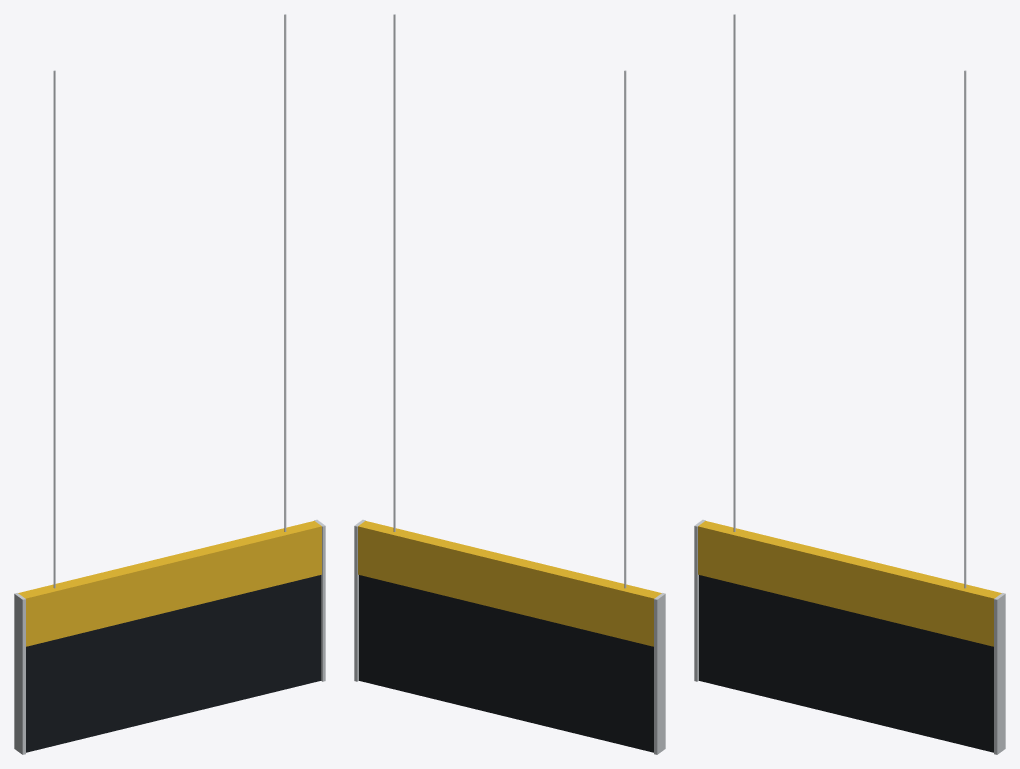
The model's file is aisle_sign.glb.
The picture shows the model from 3 angles, left to right: view 1: azimuth 30°, elevation 25°; view 2: azimuth 150°, elevation 25°; view 3: azimuth 330°, elevation 25°; orthographic projection.
Visible parts, largest first — view 1: sign_dark, sign_yellow, chrome; view 2: sign_dark, sign_yellow, chrome; view 3: sign_dark, sign_yellow, chrome.
Boxes of the visible parts, x1,y1,x2,y2 form: sign_dark: (26,575,320,752); sign_yellow: (18,521,321,646); chrome: (14,14,325,754); sign_dark: (359,575,653,752); sign_yellow: (358,521,661,646); chrome: (354,14,665,754); sign_dark: (699,575,993,752); sign_yellow: (698,521,1001,646); chrome: (694,14,1005,754).
Bounding box in the file's own units: 1.84 × 3.9 × 0.09.
